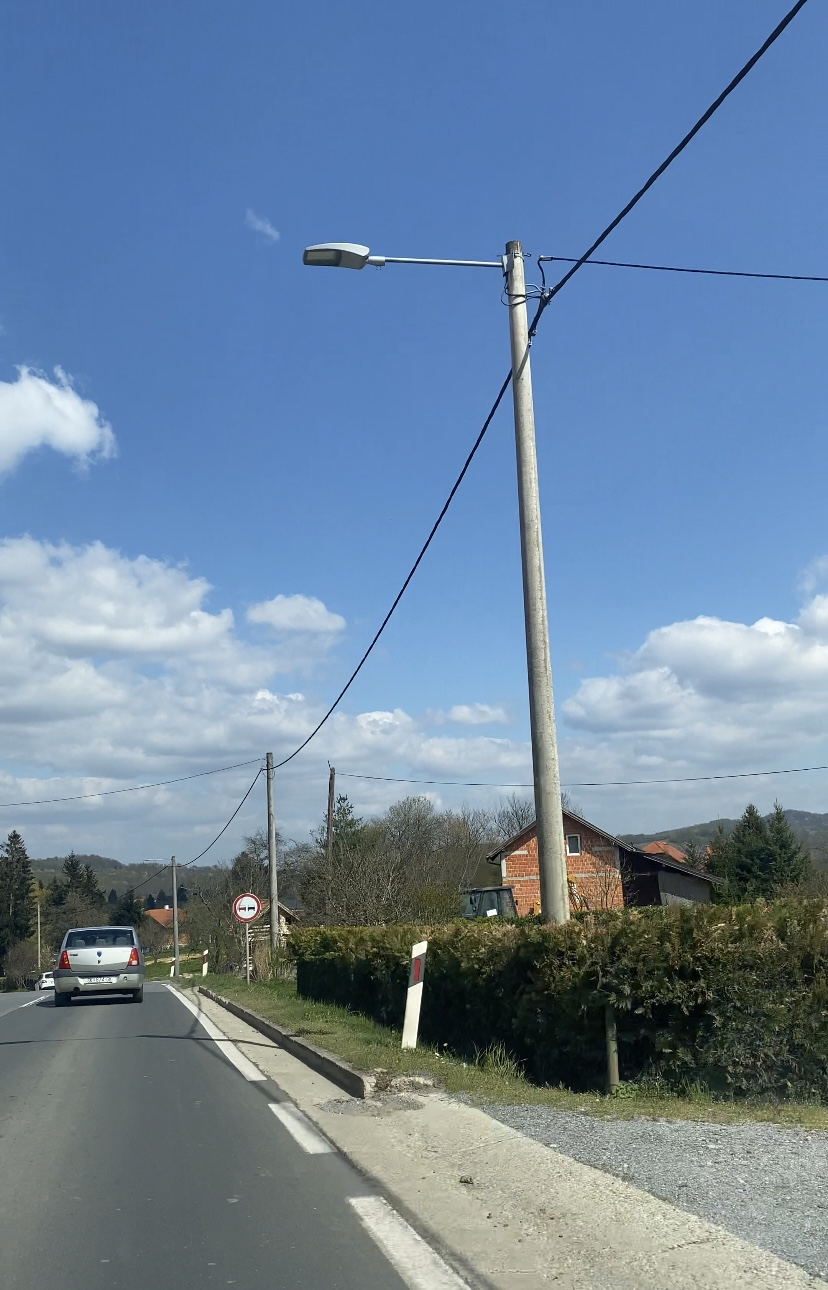Zabrana pretjecanja: (233, 893, 261, 922)
